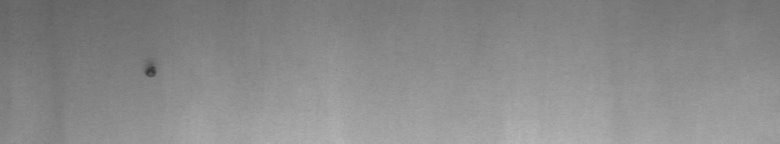fi: (140, 61, 160, 84)
